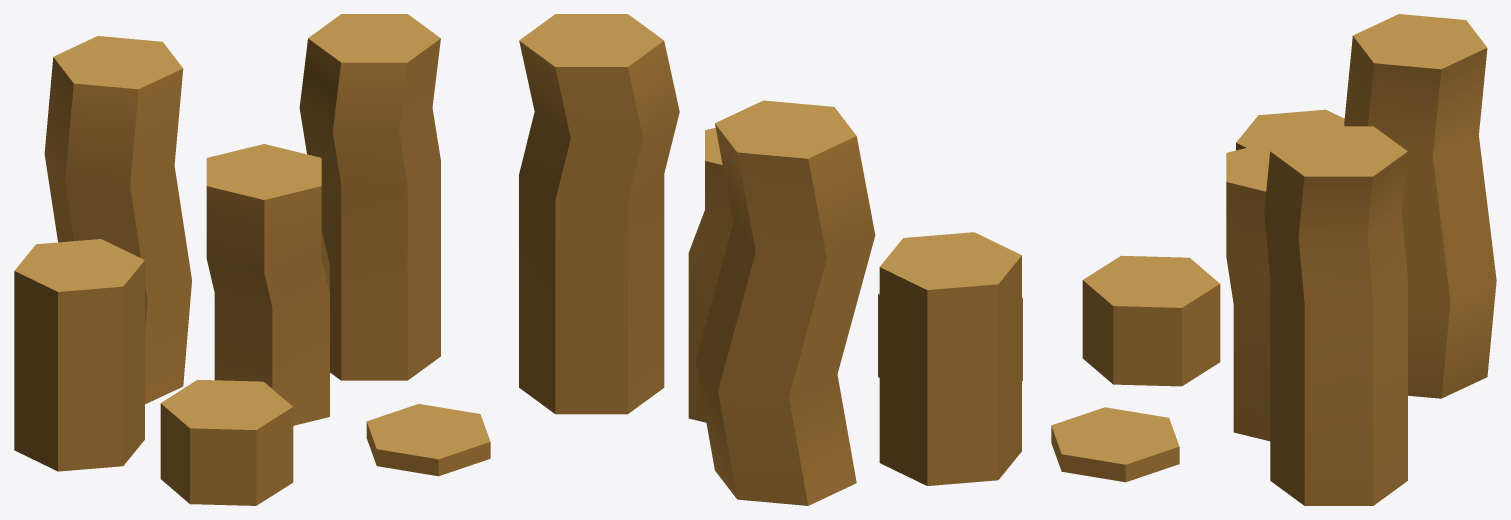
File: SD_Prop_Coin_04.fbx
3 renders of one model, left to right at view 1: azimuth 30°, elevation 25°; view 2: azimuth 150°, elevation 25°; view 3: azimuth 270°, elevation 25°, orthographic. The views are drawn at different scales.
Parts seen in each view (by area): view 1: SD_Prop_Coin_04; view 2: SD_Prop_Coin_04; view 3: SD_Prop_Coin_04.
Boxes of the visible parts, left/top/right/bottom form: SD_Prop_Coin_04: left=14, top=14, right=490, bottom=505; SD_Prop_Coin_04: left=519, top=14, right=1022, bottom=505; SD_Prop_Coin_04: left=1051, top=14, right=1496, bottom=505.
Size of the model in its own units: 0.6508 by 0.4752 by 0.5822.
